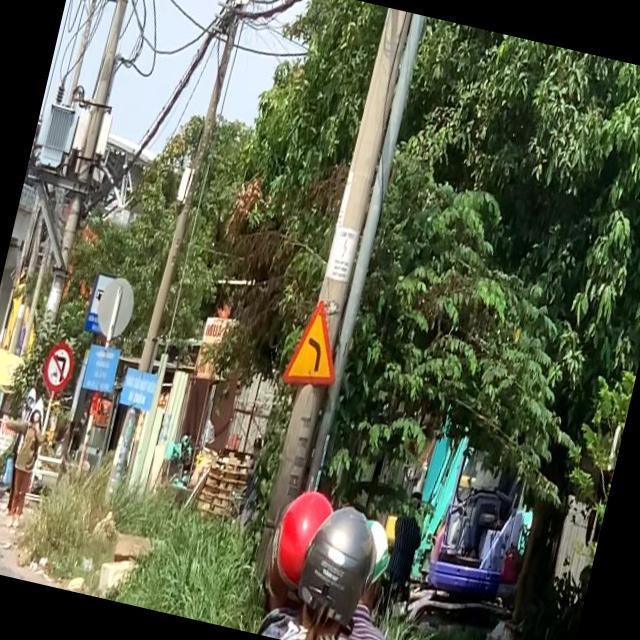W-201a: (278, 298, 348, 392)
